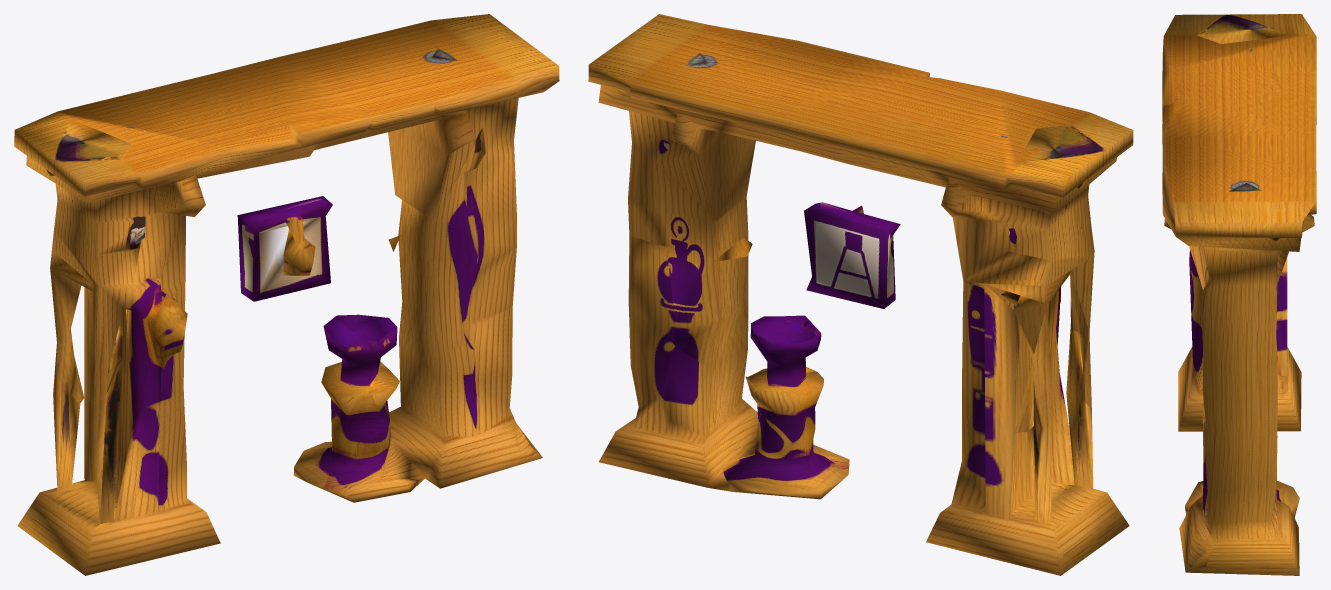
Rendered from potion-shop-sign.glb.
3 renders of one model, left to right at view 1: azimuth 30°, elevation 25°; view 2: azimuth 150°, elevation 25°; view 3: azimuth 270°, elevation 25°, orthographic. The views are drawn at different scales.
Parts seen in each view (by area): view 1: Mesh_0; view 2: Mesh_0; view 3: Mesh_0.
Boxes of the visible parts, x1,y1,x2,y2 form: Mesh_0: [14, 14, 559, 575]; Mesh_0: [588, 14, 1133, 575]; Mesh_0: [1162, 14, 1316, 575].
Size of the model in its own units: 2.48 by 2 by 0.7748.
1 material, 1 textured.
